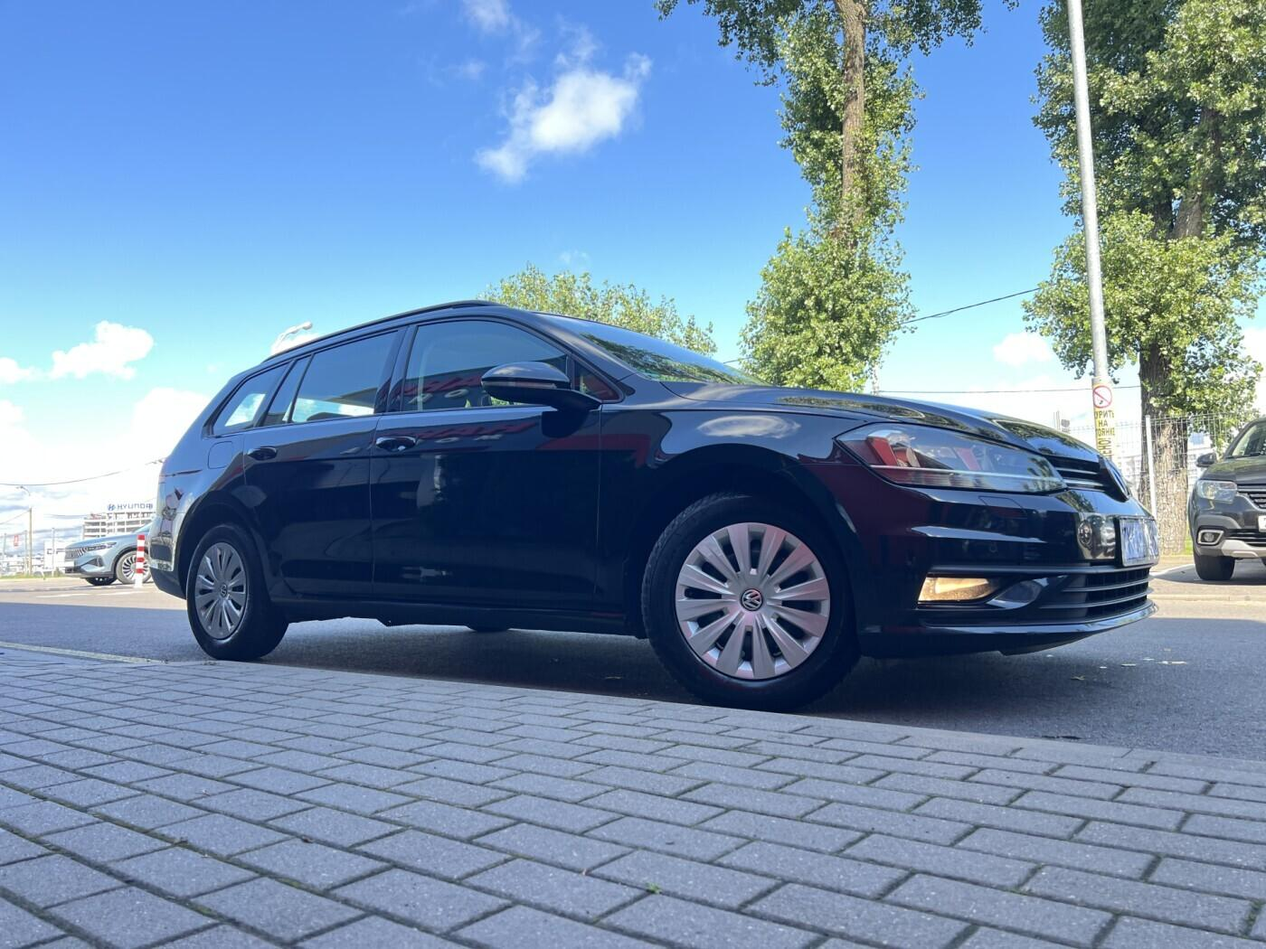Golf_2017-2021: (146, 302, 1164, 701)
